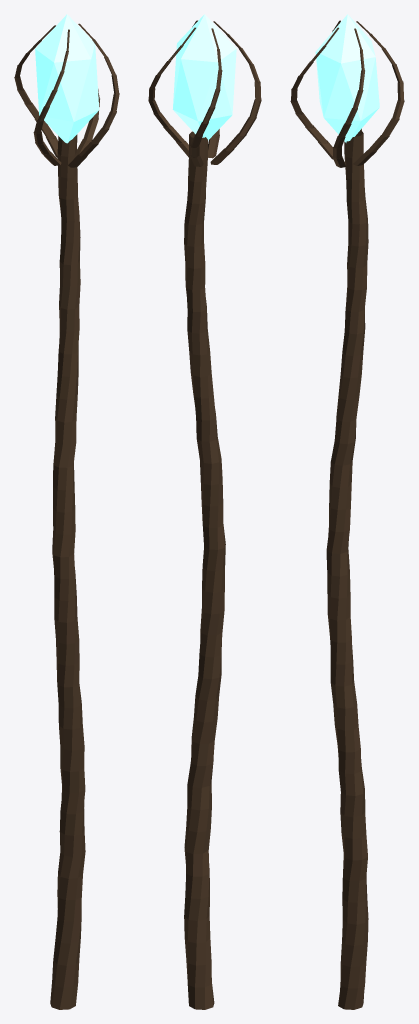
The model's file is Cajado_Azul.glb.
3 renders of one model, left to right at view 1: azimuth 30°, elevation 25°; view 2: azimuth 150°, elevation 25°; view 3: azimuth 330°, elevation 25°, orthographic.
Parts seen in each view (by area): view 1: Cabo, Cristal; view 2: Cabo, Cristal; view 3: Cabo, Cristal.
Part boxes in pixels (x1,y1,x2,y2): Cabo: (14, 23, 119, 1009); Cristal: (35, 14, 99, 143); Cabo: (148, 20, 261, 1009); Cristal: (172, 14, 236, 140); Cabo: (290, 20, 404, 1009); Cristal: (315, 14, 379, 142).
Size of the model in its own units: 0.1646 by 1.82 by 0.1652.
